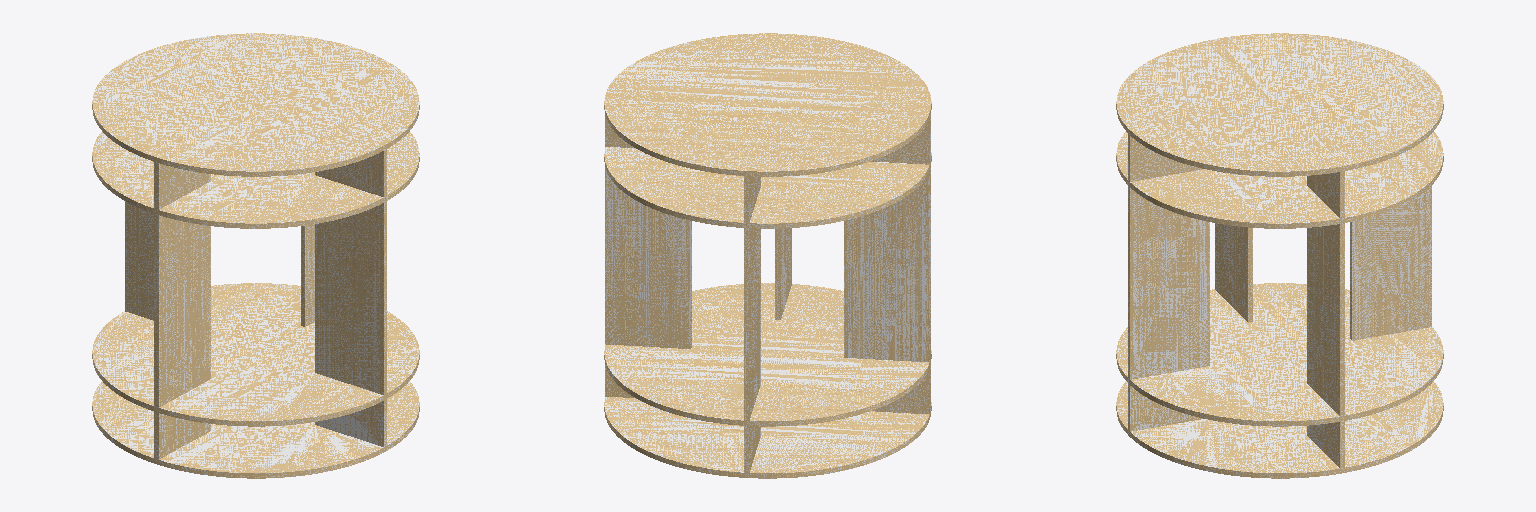
3 views of the same model, side by side, from view 1: azimuth 30°, elevation 25°; view 2: azimuth 150°, elevation 25°; view 3: azimuth 270°, elevation 25° (orthographic).
Parts seen in each view (by area): view 1: mesh1_mesh1-geometry; view 2: mesh1_mesh1-geometry; view 3: mesh1_mesh1-geometry.
Boxes of the visible parts, x1=… form: mesh1_mesh1-geometry: x1=92, y1=33, x2=419, y2=478; mesh1_mesh1-geometry: x1=604, y1=33, x2=931, y2=478; mesh1_mesh1-geometry: x1=1116, y1=33, x2=1443, y2=478.
Size of the model in its own units: 0.5707 by 0.5905 by 0.5707.
3 materials, 1 textured.